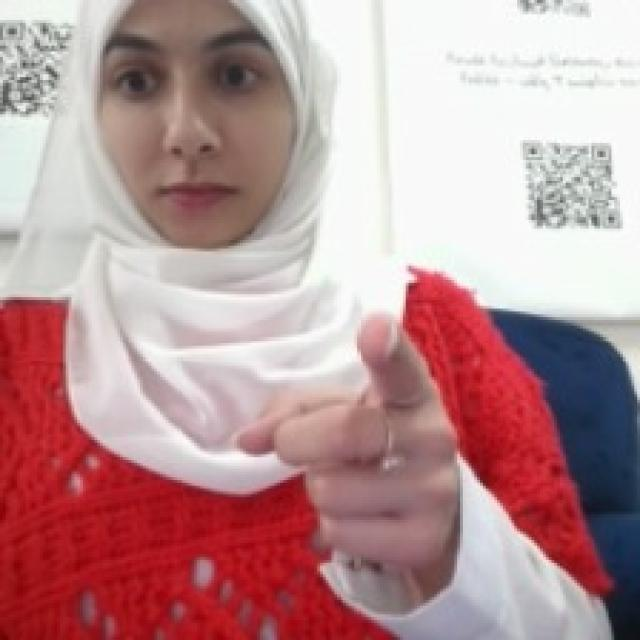you: (225, 300, 466, 580)
